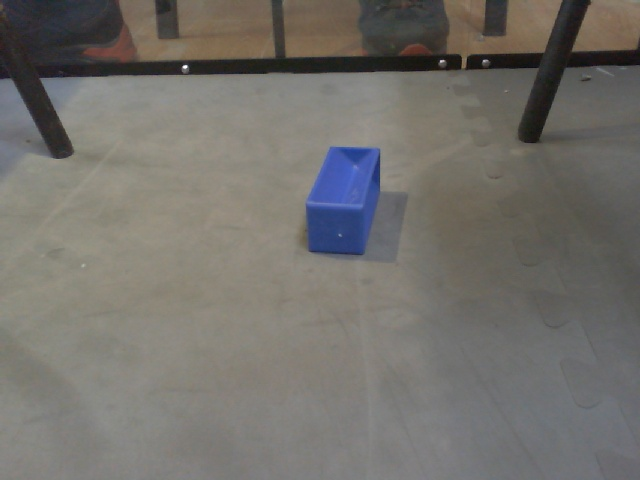BlueSample: (303, 139, 384, 266)
